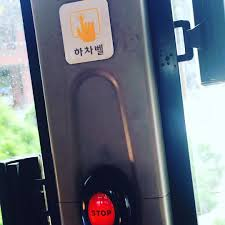bell: (77, 163, 134, 225)
